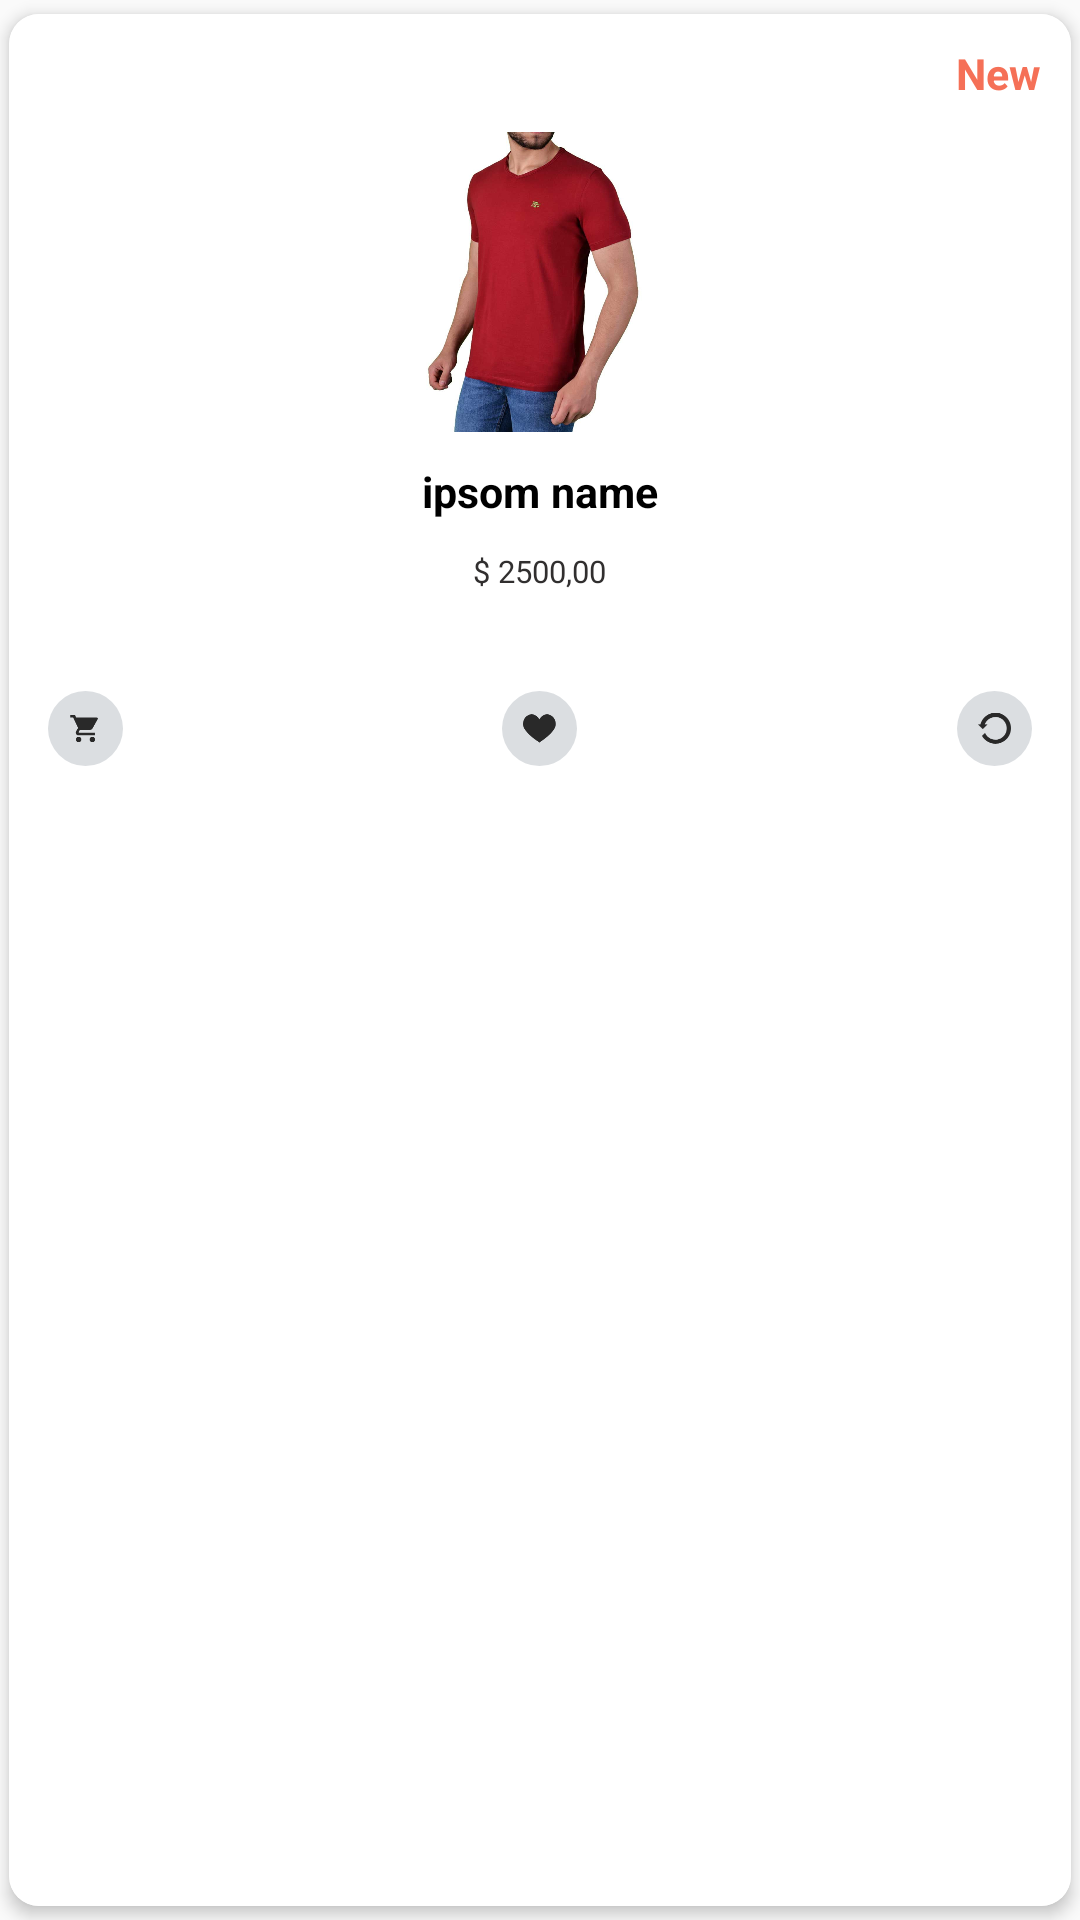

Icons on this 1080*1920 Android screen, each with its box as (x1, y1, x2, y2):
cart: (48, 691, 123, 766)
heart: (502, 691, 577, 766)
rotate: (957, 691, 1032, 766)
